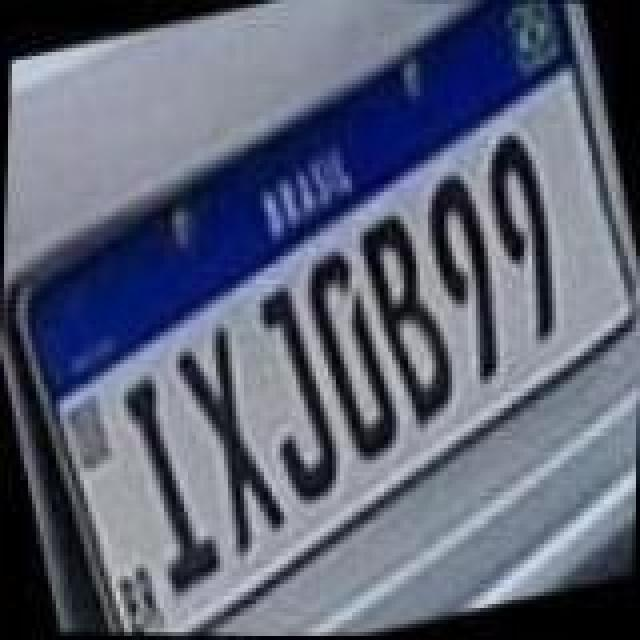9: (408, 166, 524, 394), (464, 128, 580, 356)
B: (346, 206, 470, 434)
D: (290, 244, 410, 472)
I: (108, 366, 232, 602)
J: (234, 280, 354, 512)
X: (158, 318, 298, 566)
